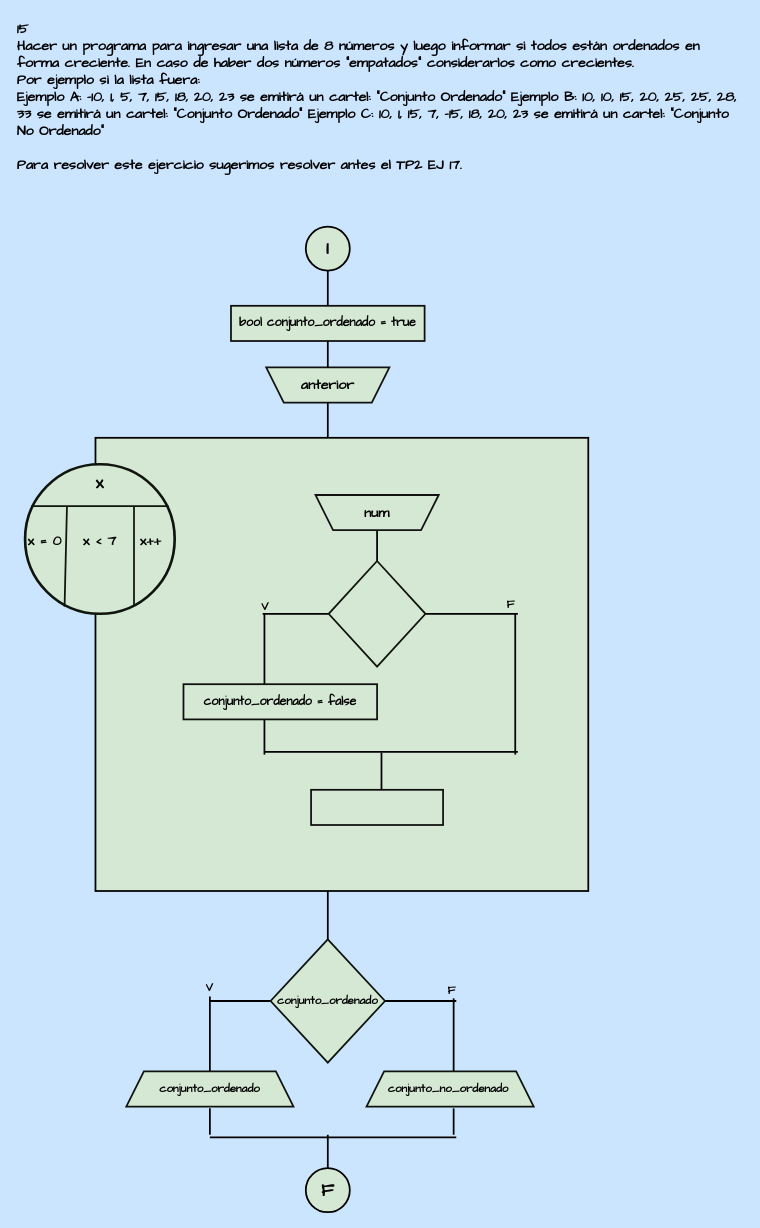
Image size: 760x1228. Some labels were removed from this diagram. Each missing label, with the centre of its shape:
anterior = num: the point at 377,806
num < anterior: the point at 376,613
